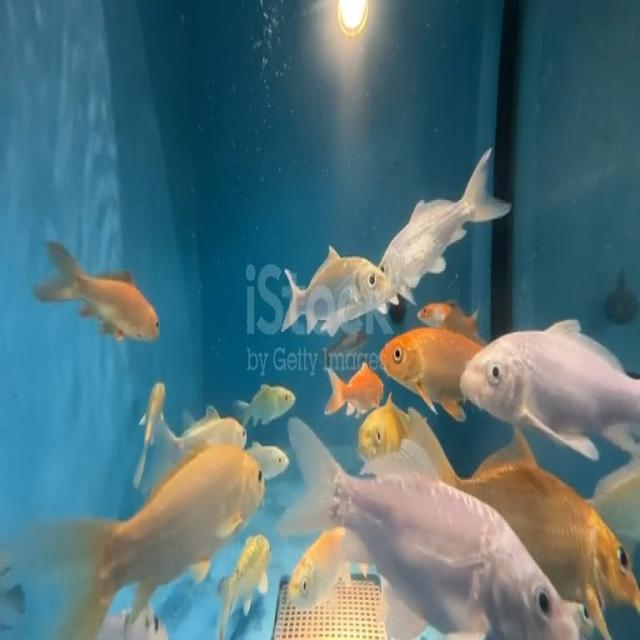fish: (279, 412, 592, 640), (26, 443, 263, 638), (481, 438, 640, 626), (457, 309, 640, 456), (373, 144, 510, 286), (41, 239, 172, 359), (282, 255, 393, 335), (376, 318, 482, 400), (280, 516, 350, 616), (224, 531, 272, 631), (161, 407, 247, 457), (134, 368, 168, 486), (351, 399, 405, 464), (322, 362, 385, 414), (238, 376, 296, 430), (242, 434, 292, 484), (416, 298, 467, 327)
